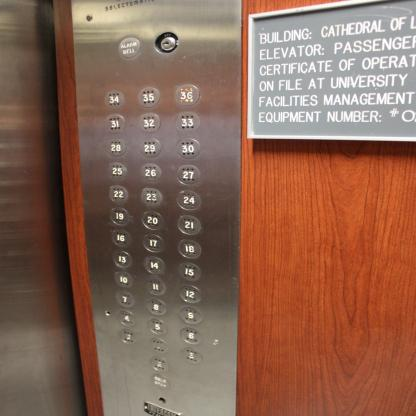10: (113, 269, 134, 288)
11: (143, 277, 166, 296)
12: (177, 284, 203, 304)
13: (112, 249, 132, 269)
14: (141, 254, 166, 276)
15: (177, 262, 202, 282)
16: (110, 228, 132, 247)
17: (141, 233, 165, 254)
18: (177, 238, 202, 260)
19: (108, 206, 130, 226)
20: (140, 210, 164, 230)
21: (176, 214, 202, 235)
22: (107, 184, 129, 204)
23: (140, 186, 163, 208)
24: (176, 190, 201, 210)
25: (106, 160, 128, 180)
26: (138, 162, 163, 183)
27: (176, 164, 201, 186)
28: (105, 138, 127, 156)
29: (138, 137, 162, 159)
3: (180, 346, 204, 365)
30: (176, 137, 202, 160)
31: (103, 113, 126, 133)
32: (138, 112, 161, 134)
33: (174, 111, 200, 134)
34: (103, 89, 125, 109)
35: (137, 87, 159, 107)
36: (174, 84, 200, 105)
4: (117, 309, 138, 327)
5: (146, 317, 168, 336)
6: (179, 326, 203, 345)
7: (114, 289, 135, 307)
8: (145, 297, 168, 316)
9: (178, 305, 202, 324)
blur: (118, 326, 139, 345), (148, 355, 168, 373)
empty: (148, 336, 168, 355)
keyhole: (153, 32, 179, 56)
text_alarm: (117, 36, 142, 60)
text_door open: (149, 372, 170, 392)
